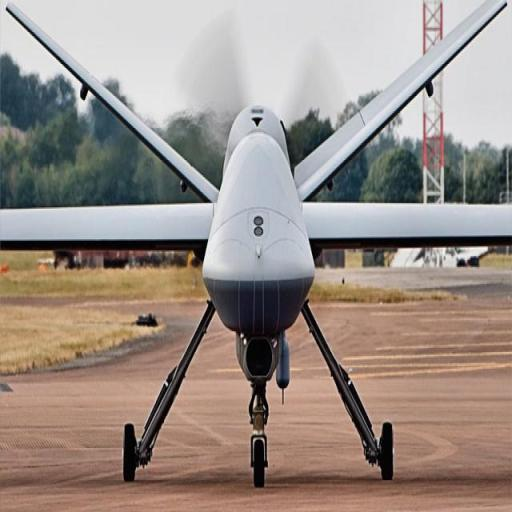uav: (1, 4, 512, 491)
